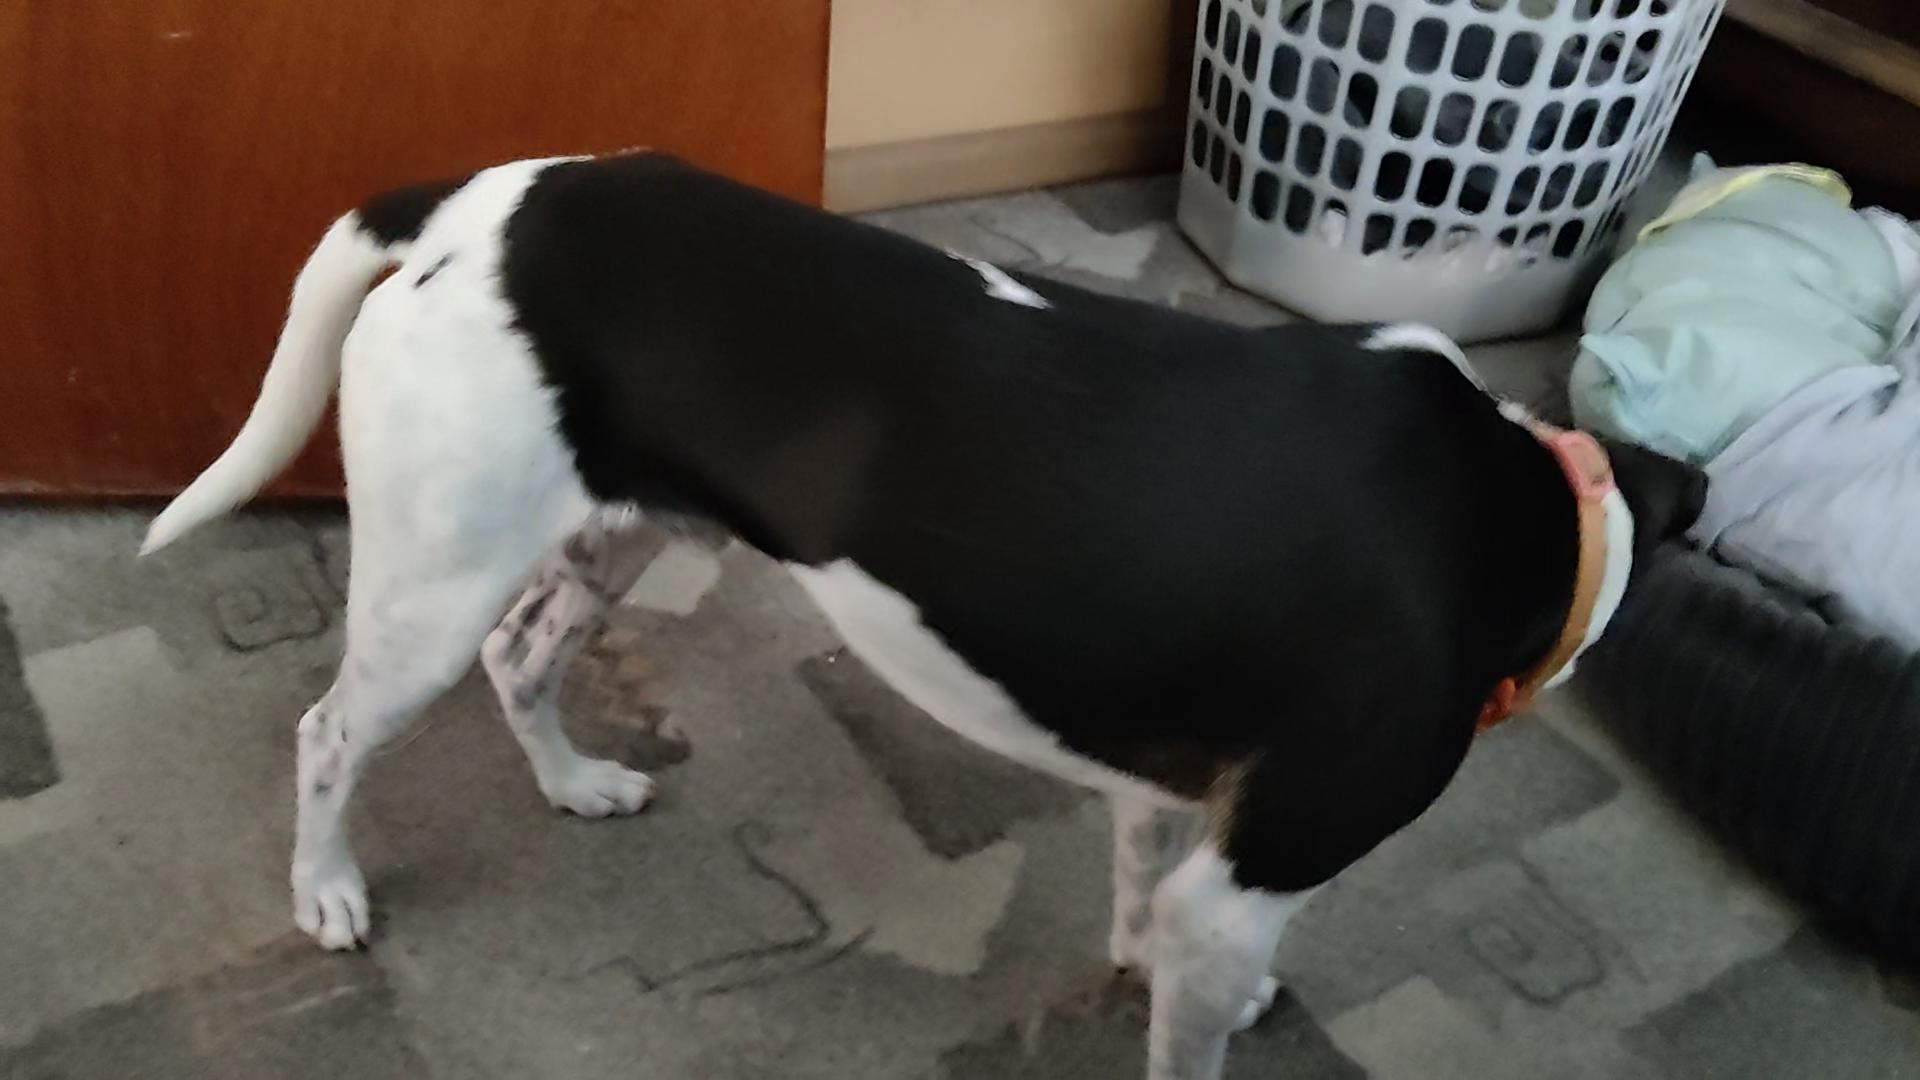Dog: (131, 138, 1716, 1079)
